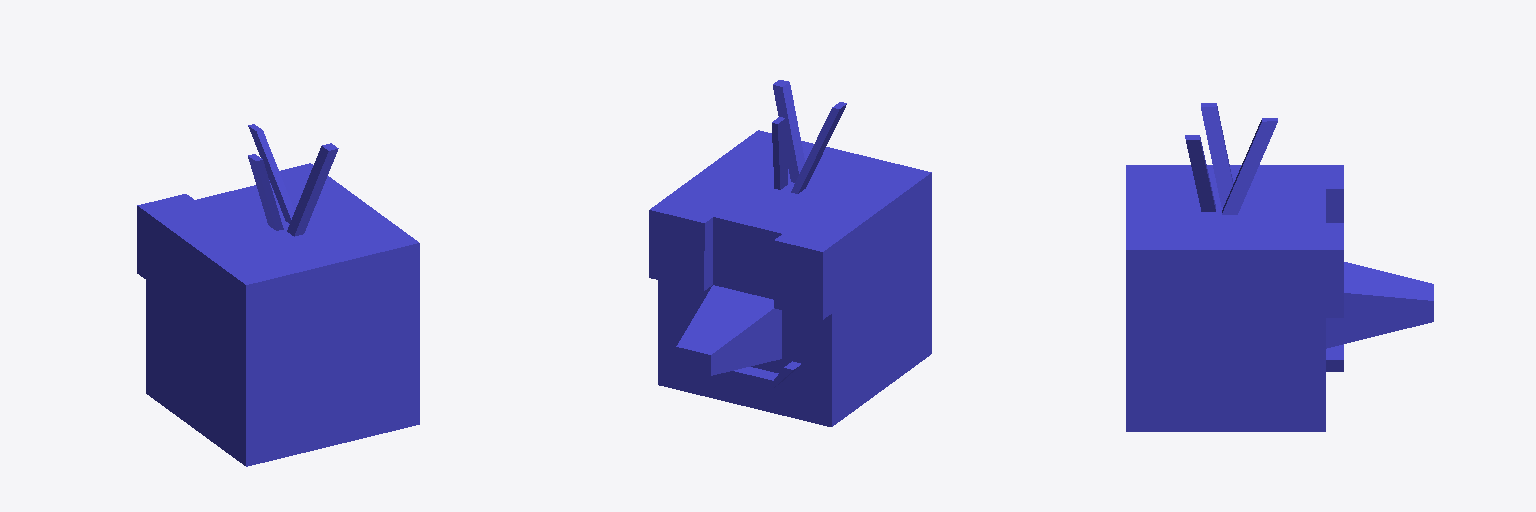
File: player.obj
3 renders of one model, left to right at view 1: azimuth 30°, elevation 25°; view 2: azimuth 150°, elevation 25°; view 3: azimuth 270°, elevation 25°, orthographic.
Visible parts, largest first — view 1: Box001; view 2: Box001; view 3: Box001.
Boxes of the visible parts, x1=… form: Box001: x1=137, y1=124, x2=419, y2=466; Box001: x1=649, y1=80, x2=931, y2=426; Box001: x1=1126, y1=103, x2=1433, y2=431.
Size of the model in its own units: 10 by 14.68 by 15.38.